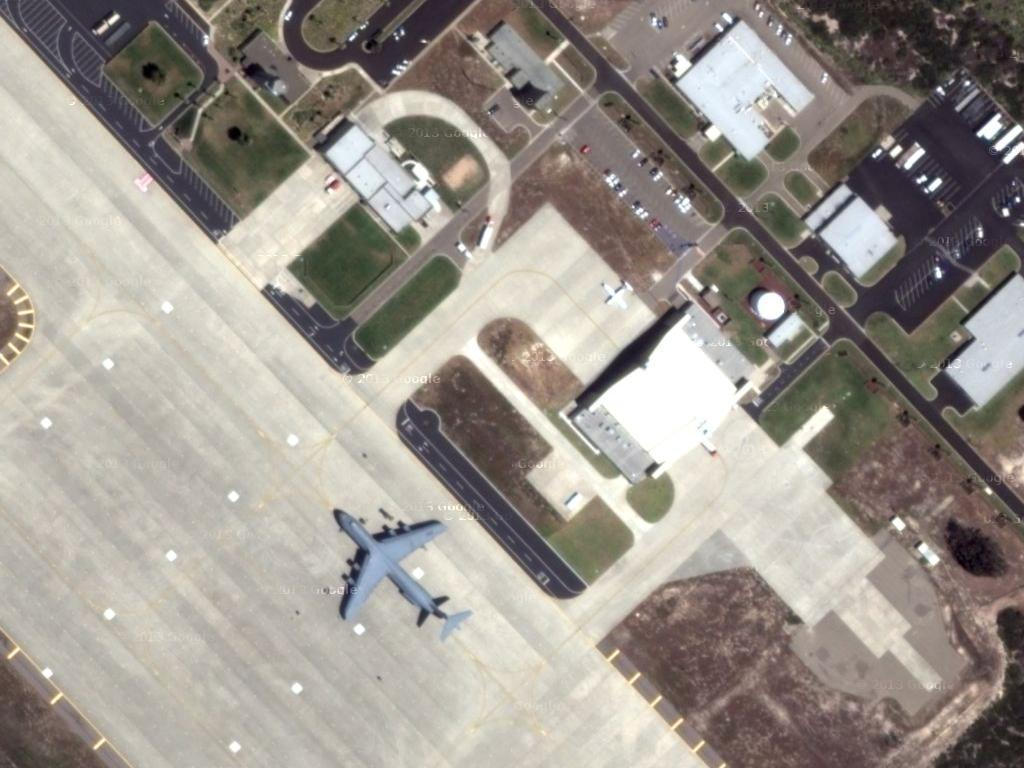KC-135: (329, 504, 477, 645)
